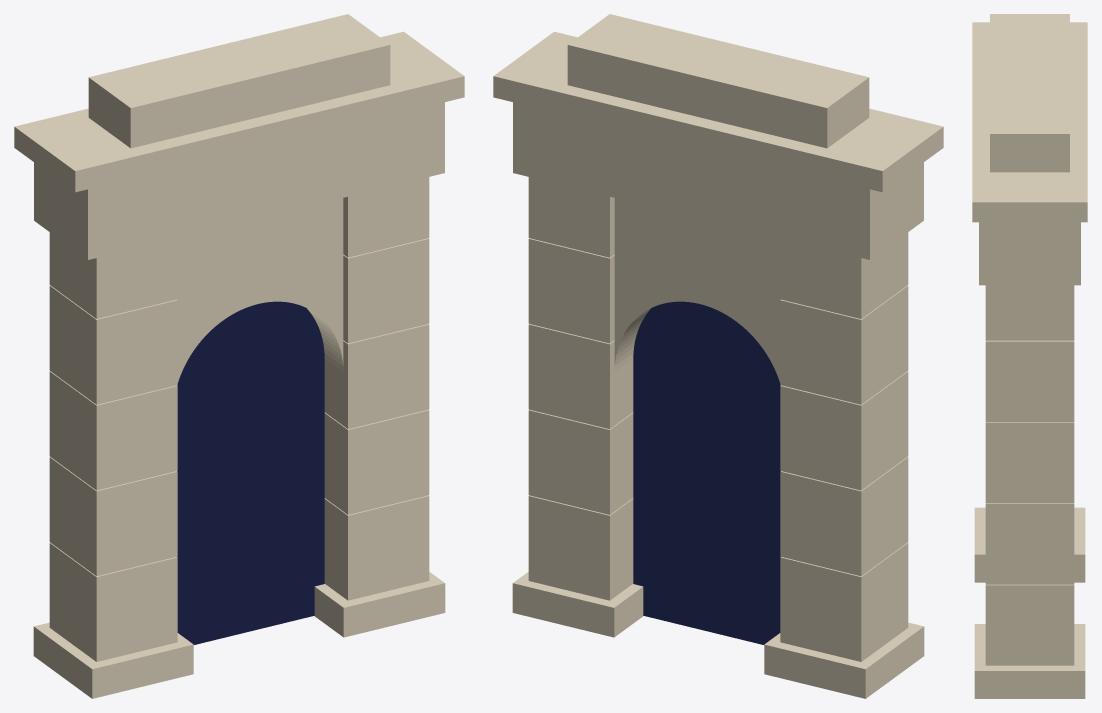
The model's file is gate.glb.
3 renders of one model, left to right at view 1: azimuth 30°, elevation 25°; view 2: azimuth 150°, elevation 25°; view 3: azimuth 270°, elevation 25°, orthographic. The views are drawn at different scales.
Parts seen in each view (by area): view 1: gate, doorway; view 2: gate, doorway; view 3: gate.
Boxes of the visible parts, box(x1,y1,x2,y2) form: gate: box(14, 14, 464, 698); doorway: box(177, 301, 324, 644); gate: box(493, 14, 943, 698); doorway: box(633, 301, 780, 644); gate: box(972, 14, 1087, 698).
Size of the model in its own units: 4.8 by 6.75 by 1.3.
